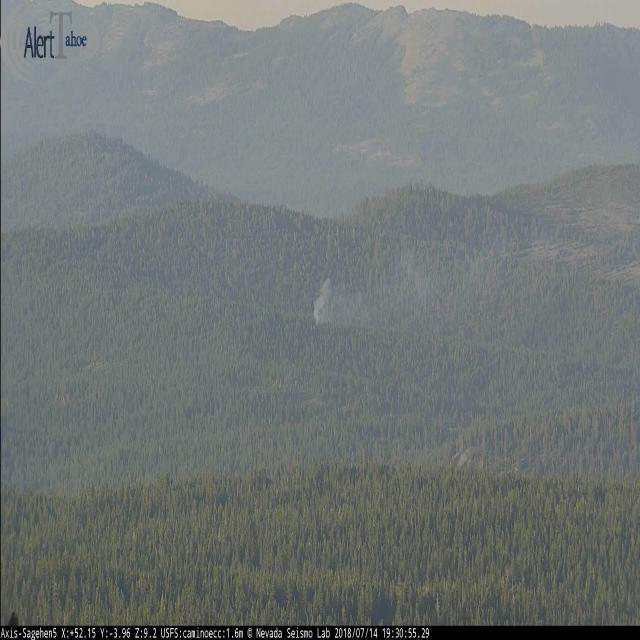smoke: (312, 278, 342, 324)
